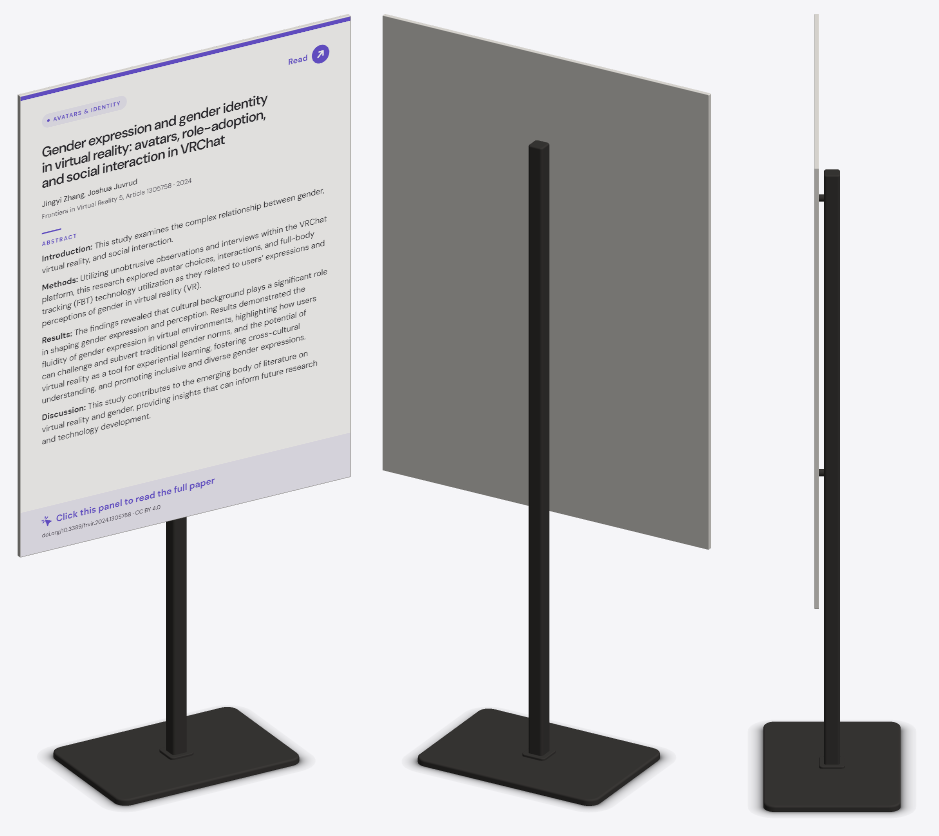
The model's file is zhang-2024-stand.glb.
The picture shows the model from 3 angles, left to right: view 1: azimuth 30°, elevation 25°; view 2: azimuth 150°, elevation 25°; view 3: azimuth 270°, elevation 25°; orthographic projection. The views are drawn at different scales.
Parts seen in each view (by area): view 1: board, stand; view 2: board, stand; view 3: stand, board.
Boxes of the visible parts, x1=… form: board: x1=17, y1=14, x2=350, y2=557; stand: x1=46, y1=517, x2=306, y2=808; board: x1=382, y1=14, x2=710, y2=549; stand: x1=410, y1=140, x2=666, y2=808; stand: x1=756, y1=169, x2=907, y2=814; board: x1=814, y1=14, x2=818, y2=608.
Bounding box in the file's own units: 0.904 × 1.85 × 0.46.
4 materials, 2 textured.
